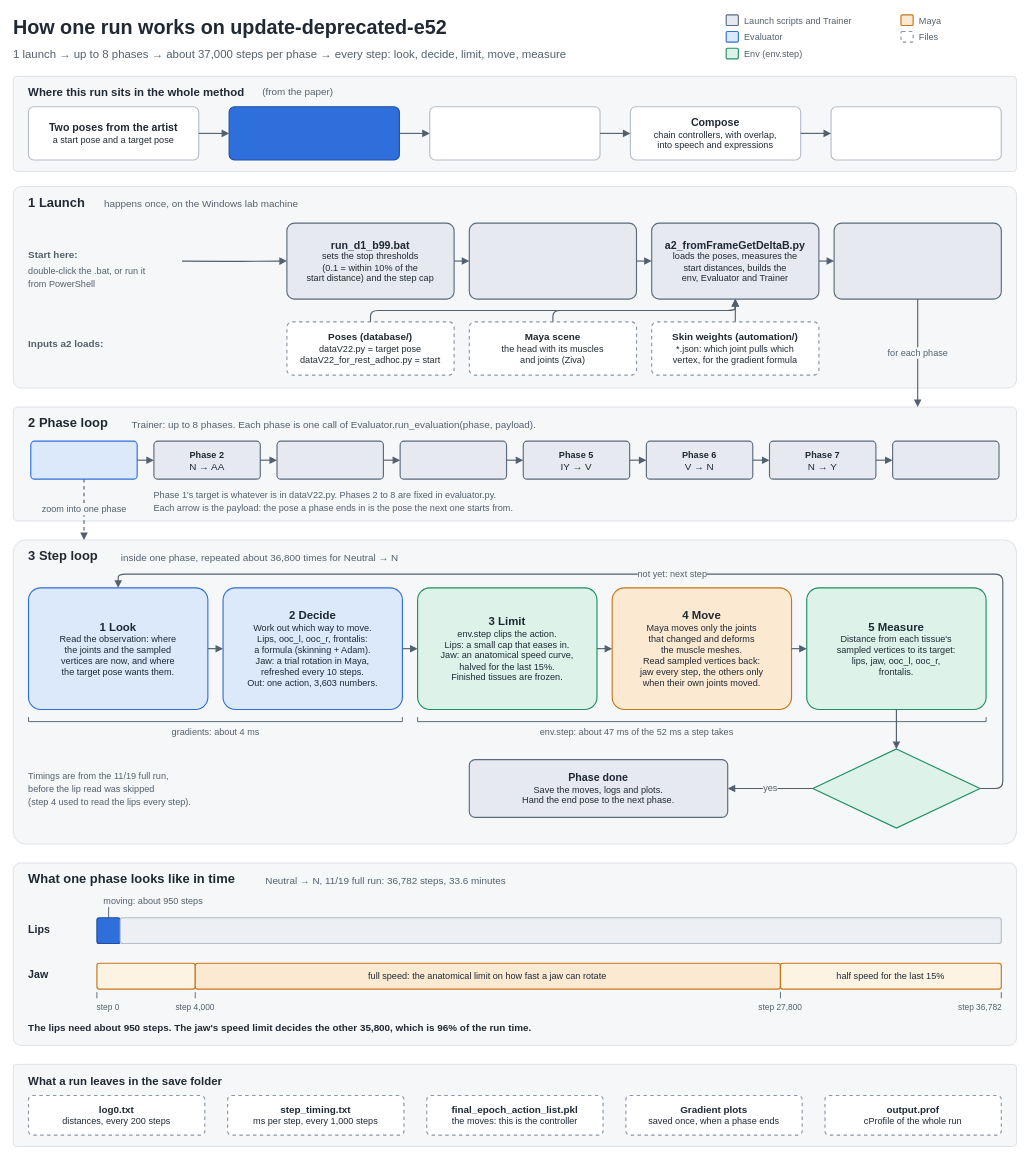
This 1030x1161 diagram has some shape labels left out. Each missing label, with the centre of its shape:
All five within 10% of their start distance?: the point at 896,788
at the target, sitting still and waiting for the jaw: about 35,800 steps: the point at 560,930
d1-adhoc-for-b99.py runs under mayapy, wrapped in cProfile (output.prof): the point at 552,260
Phase 1 Neutral → N: the point at 83,459
Phase 3 AA → T: the point at 330,459
Phase 4 T → IY: the point at 453,459
Phase 8 Y → UW: the point at 945,459
Skin muscles and bones drive the skin on top: the point at 916,133
speeding up: the point at 145,975
THIS RUN search for the small moves that take the muscles to the target: the point at 314,133
Trainer.train() runs the phases one after another: the point at 917,260
Transition table the moves are stored as a reusable controller: the point at 514,133
